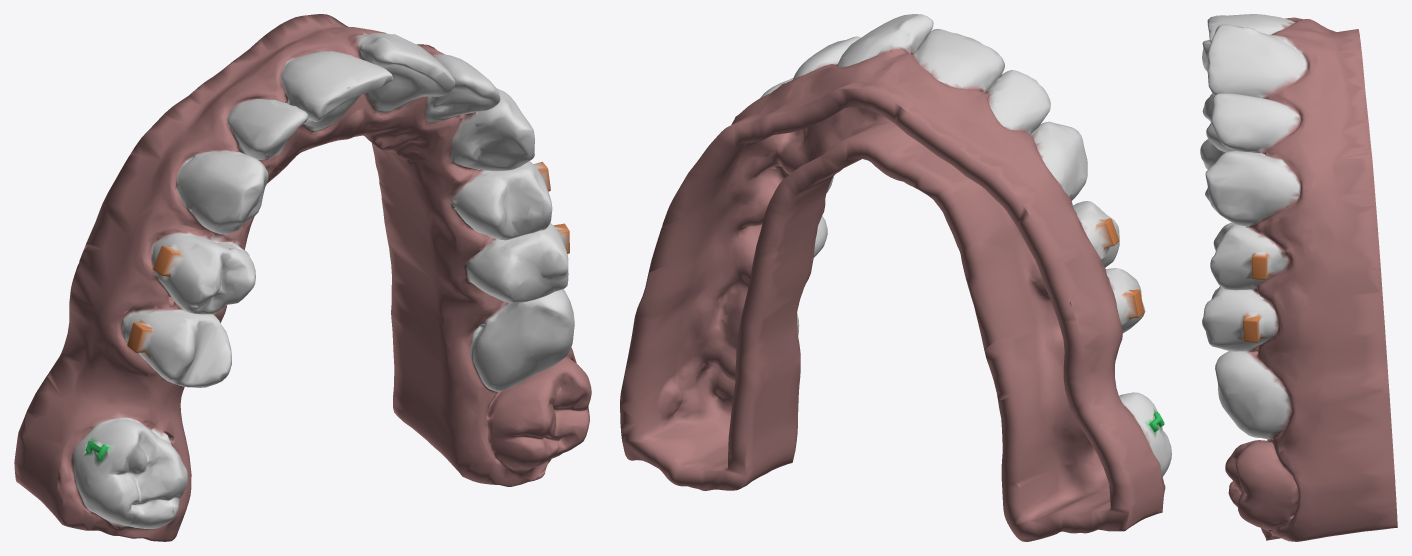
File: upper-model-1.glb
3 views of the same model, side by side, from view 1: azimuth 30°, elevation 25°; view 2: azimuth 150°, elevation 25°; view 3: azimuth 270°, elevation 25° (orthographic). The views are drawn at different scales.
Parts seen in each view (by area): view 1: 1 (1); view 2: 1 (1); view 3: 1 (1).
Boxes of the visible parts, x1,y1,x2,y2 form: 1 (1): [14, 14, 591, 541]; 1 (1): [620, 14, 1171, 541]; 1 (1): [1200, 14, 1397, 541].
Size of the model in its own units: 56.87 by 50.43 by 20.51.
